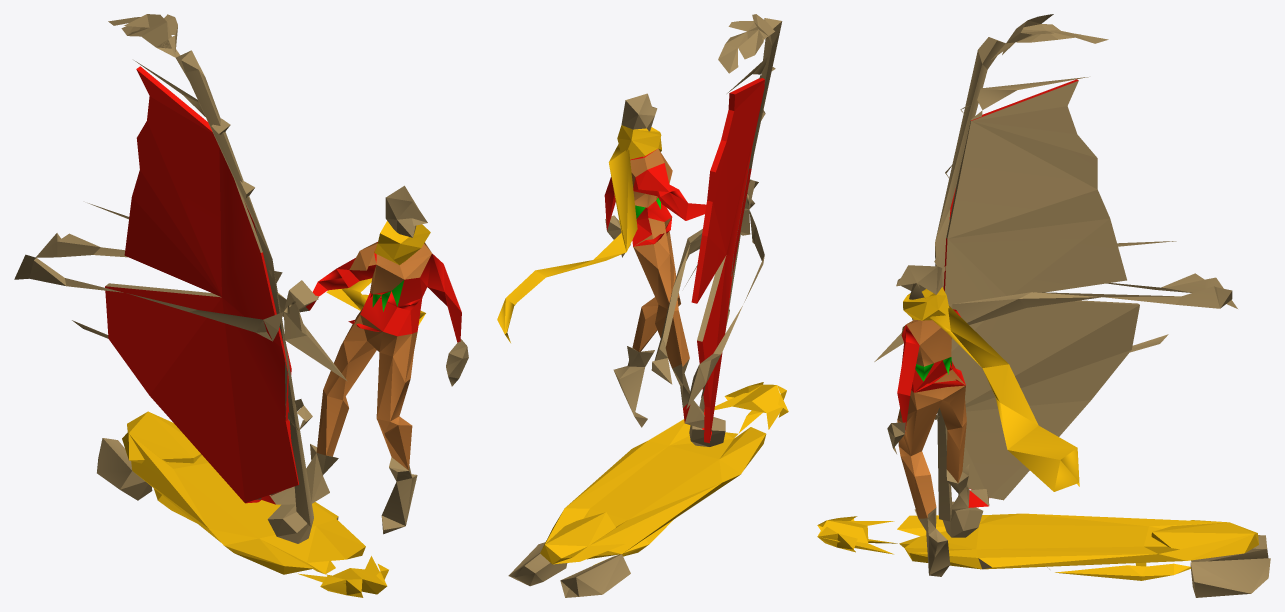
Rendered from Peak_UltraLow_3.fbx.
3 views of the same model, side by side, from view 1: azimuth 30°, elevation 25°; view 2: azimuth 150°, elevation 25°; view 3: azimuth 270°, elevation 25° (orthographic). The views are drawn at different scales.
Visible parts, largest first — view 1: LowPoly_Character:Mod_Scarf PeakLOWLOWLOW; view 2: LowPoly_Character:Mod_Scarf PeakLOWLOWLOW; view 3: LowPoly_Character:Mod_Scarf PeakLOWLOWLOW.
Part boxes in pixels (x1,y1,x2,y2): LowPoly_Character:Mod_Scarf PeakLOWLOWLOW: [14, 14, 468, 597]; LowPoly_Character:Mod_Scarf PeakLOWLOWLOW: [497, 14, 788, 597]; LowPoly_Character:Mod_Scarf PeakLOWLOWLOW: [817, 14, 1270, 597].
Size of the model in its own units: 3.24 by 5.7 by 4.49.
